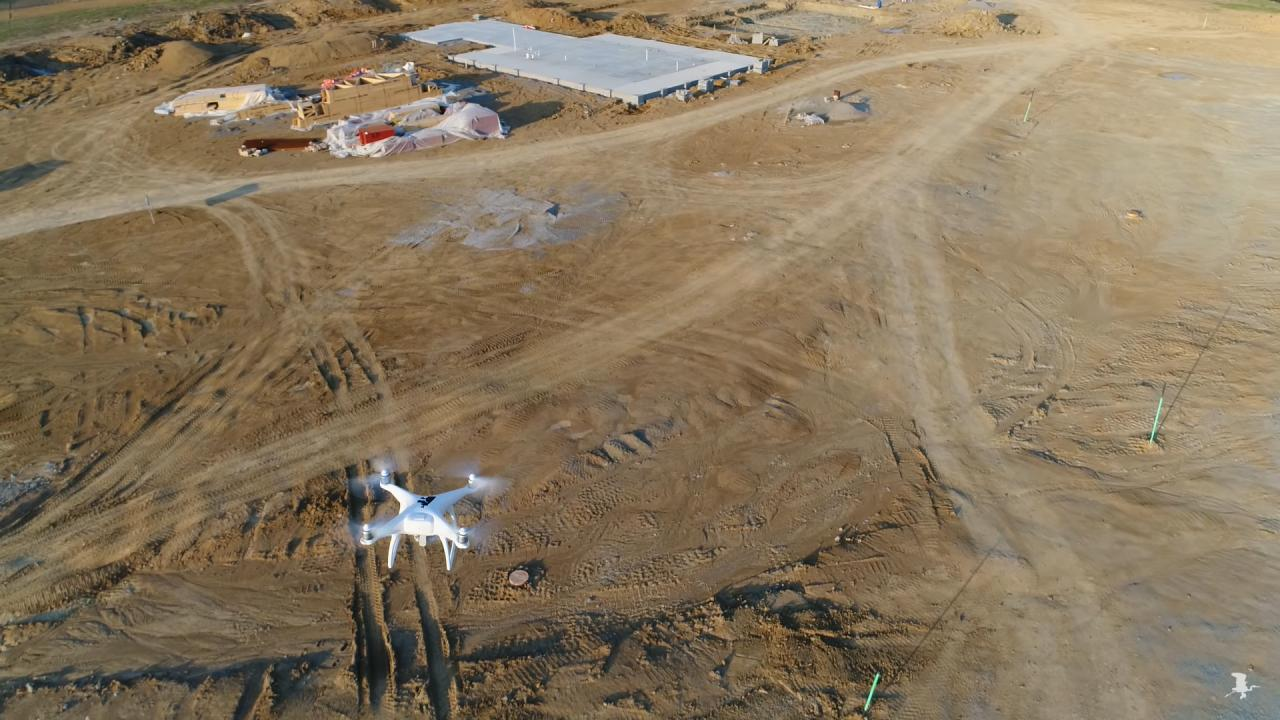Drone: (326, 444, 528, 586)
